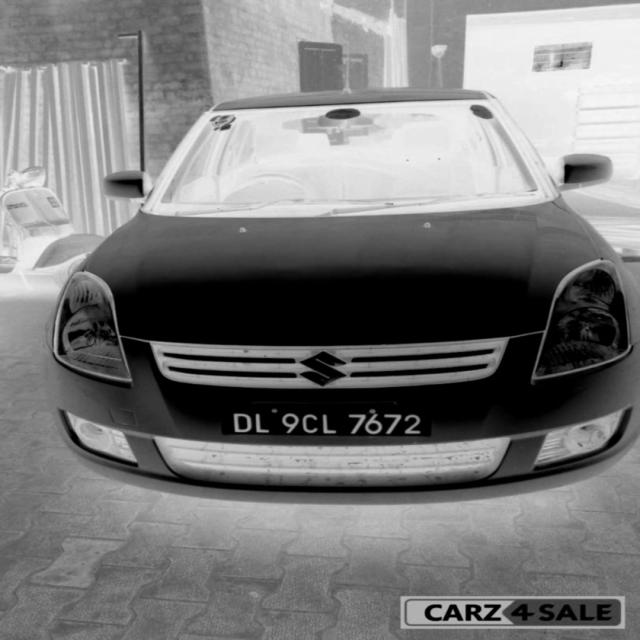Non_registered: (219, 396, 434, 442)
